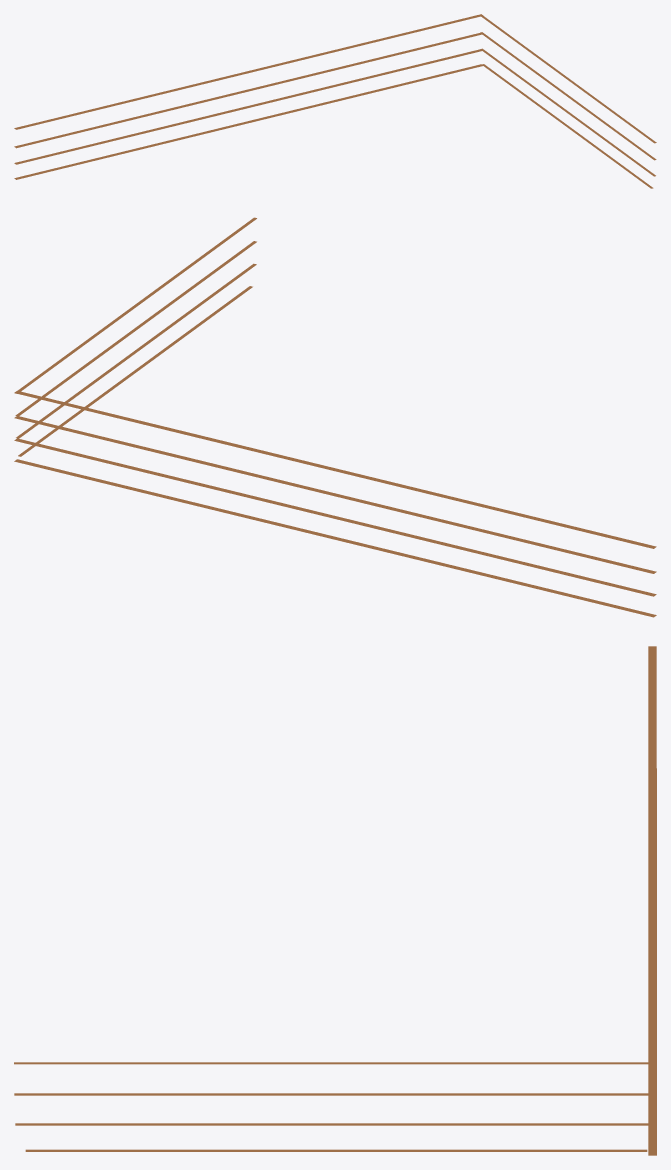
3 views of the same model, one above another, from view 1: azimuth 30°, elevation 25°; view 2: azimuth 150°, elevation 25°; view 3: azimuth 270°, elevation 25° (orthographic). The views are drawn at different scales.
Parts seen in each view (by area): view 1: Plane.004; view 2: Plane.004; view 3: Plane.004.
Part boxes in pixels (x1=…): Plane.004: x1=14, y1=14, x2=656, y2=188; Plane.004: x1=14, y1=217, x2=656, y2=617; Plane.004: x1=14, y1=646, x2=656, y2=1155.
Size of the model in its own units: 577 by 59.06 by 375.
